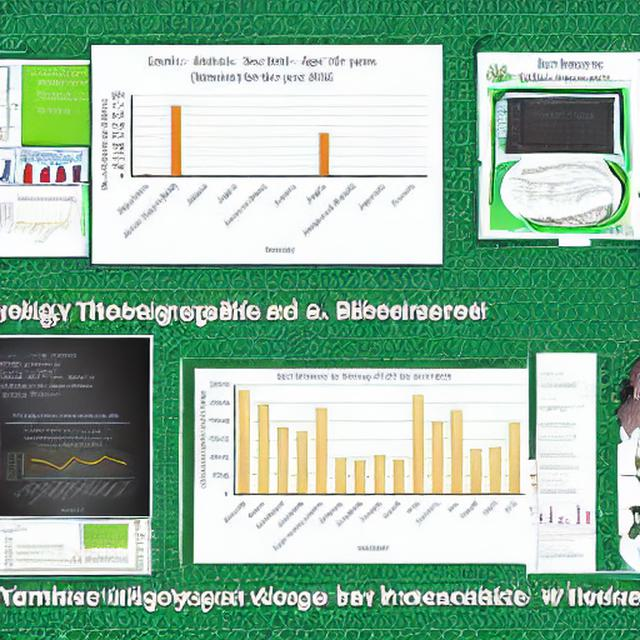Graph: (94, 47, 435, 261), (198, 370, 527, 555), (3, 434, 137, 516), (511, 98, 607, 154), (0, 196, 76, 246), (527, 490, 593, 529), (78, 520, 130, 553)
